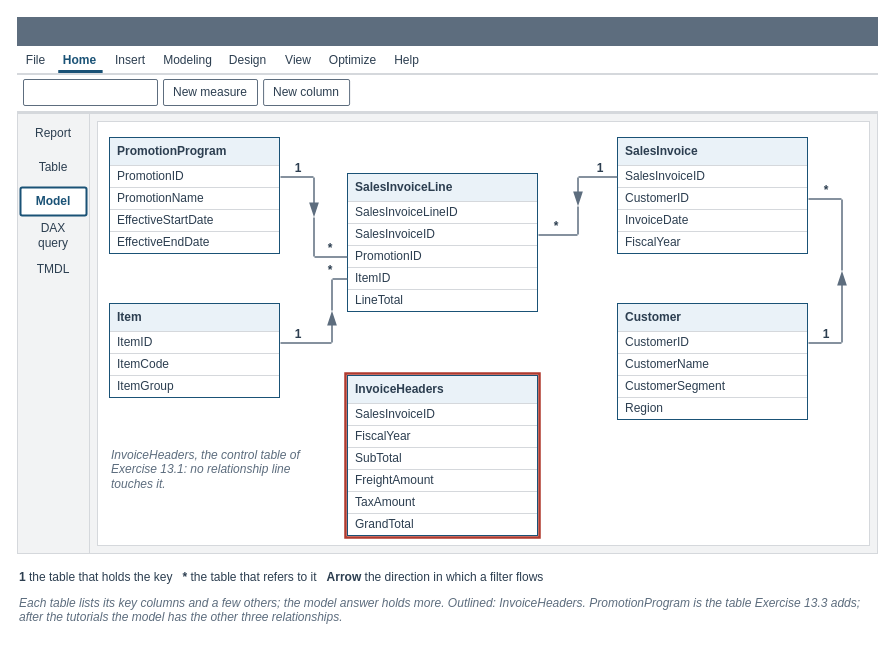
Some shapes in this 895 by 647 pixel diagram are drawn without their labels. Here are the shapes that lost their labels. From the top down, the centre of each, then its label:
At pixel 447 31: "Chapter 13 Exercises - Solutions - Power BI Desktop".
At pixel 90 92: "Manage relationships".
